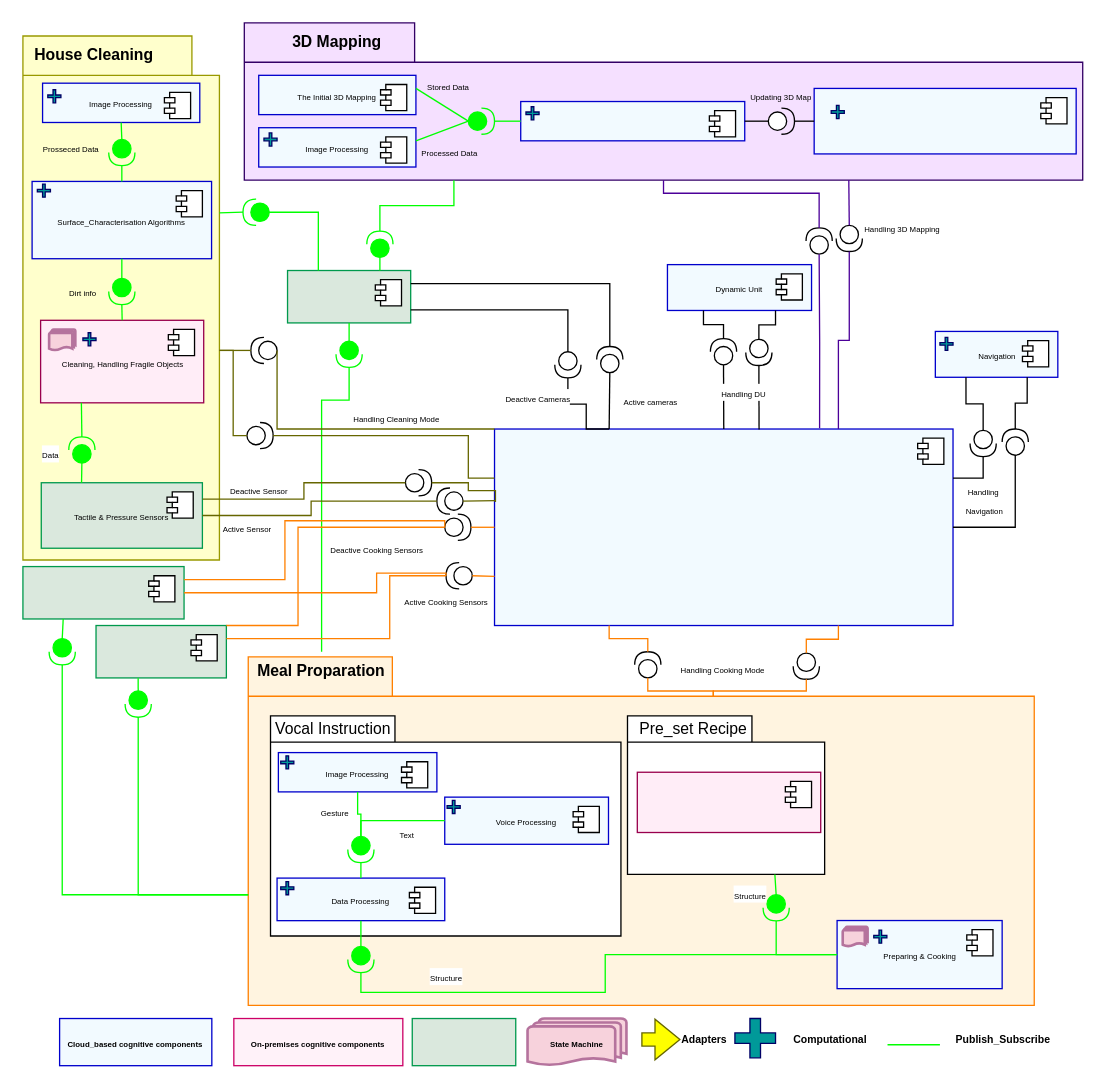
Image size: 1106x1090. Some labels were removed from this diagram. Here are the shapes that lost their labels. From the top down, the centre of each, then its label:
(632,120): Evaluting the Surrounding Environment
(944,120): Path_Planning and Plan the Optimal Route Algorithms
(348,296): Cameras
(723,527): Robot Control Unit
(103,592): Temperature Sensors
(160,651): Microphones
(728,802): Select the best Pre_set Recipe
(463,1041): Sensors
